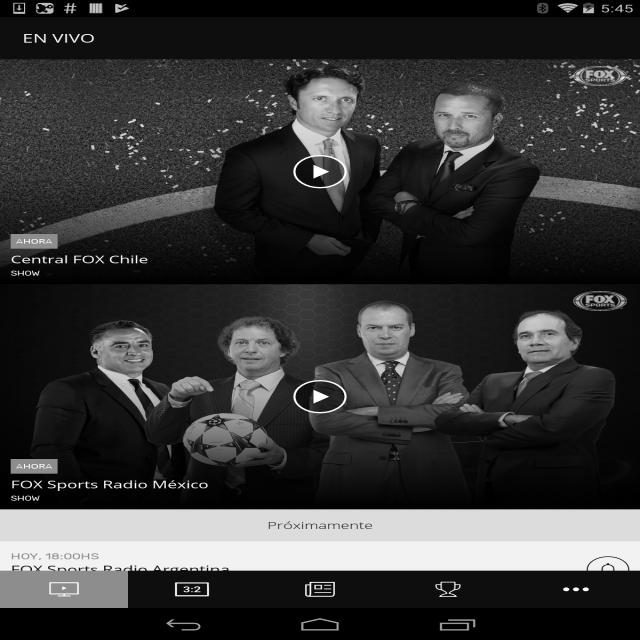ImageButton: (293, 155, 347, 188), (293, 380, 347, 413)
ImageView: (0, 284, 640, 510), (0, 59, 640, 284), (565, 63, 635, 89), (565, 288, 635, 314), (587, 556, 629, 583), (175, 579, 209, 600), (49, 580, 79, 599), (305, 580, 335, 599), (435, 582, 461, 598), (563, 582, 589, 598)
TextView: (17, 17, 623, 59), (0, 509, 640, 542), (11, 252, 629, 270), (11, 477, 629, 495), (11, 562, 565, 576), (11, 551, 565, 562), (10, 234, 58, 249), (10, 459, 58, 474), (11, 270, 40, 278), (11, 494, 40, 502)
